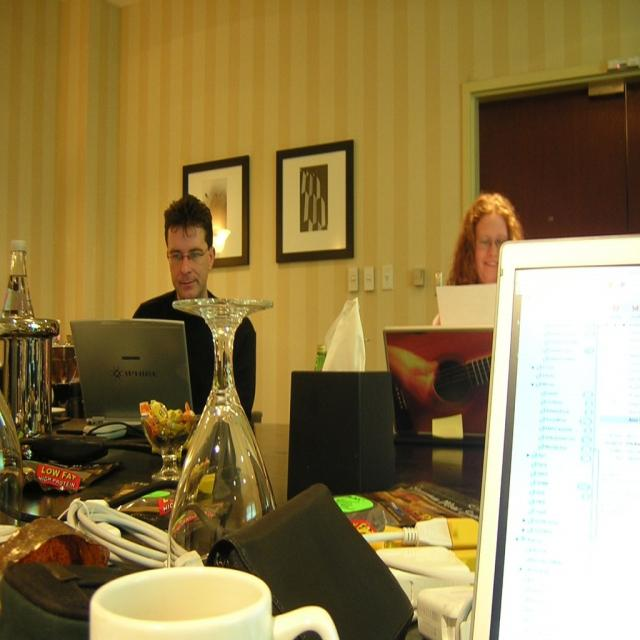desk: (0, 418, 485, 639)
laptop: (473, 234, 639, 638), (70, 318, 193, 422), (436, 284, 498, 328)
person: (132, 194, 232, 412), (442, 192, 523, 286)
